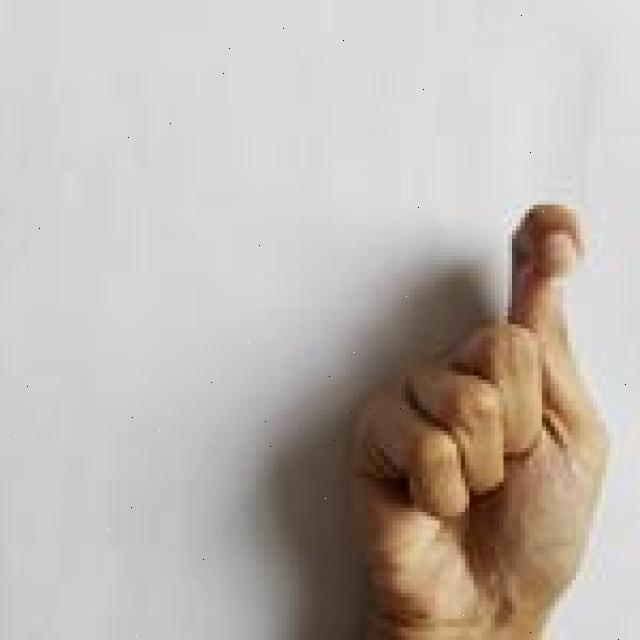T: (340, 194, 616, 640)
